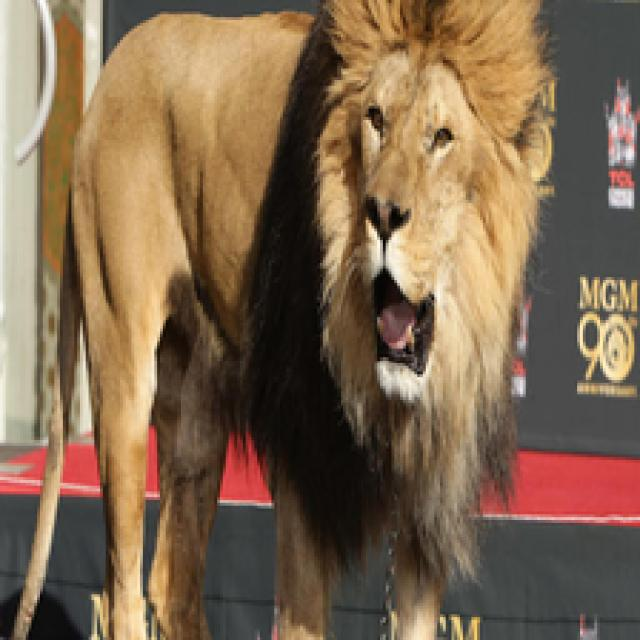lion: (62, 0, 572, 640)
